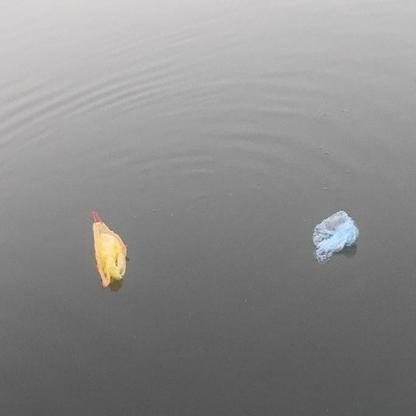plastic bag: (88, 209, 128, 284), (311, 211, 359, 262)
